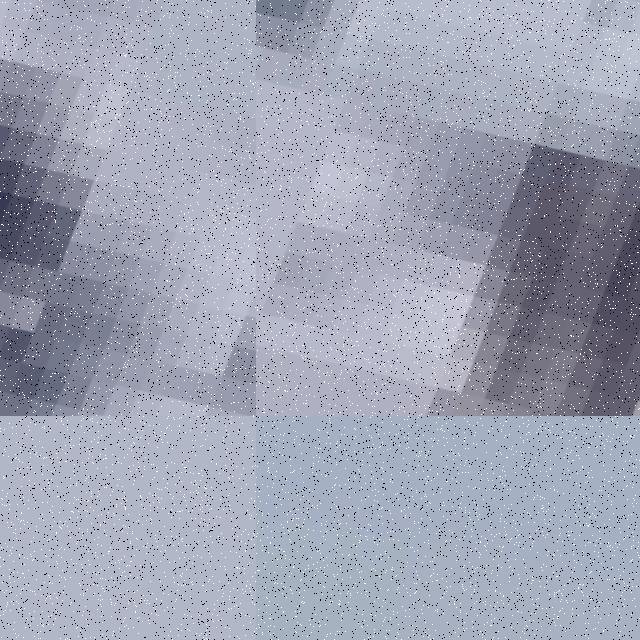drone: (256, 0, 640, 416), (0, 0, 256, 416)
